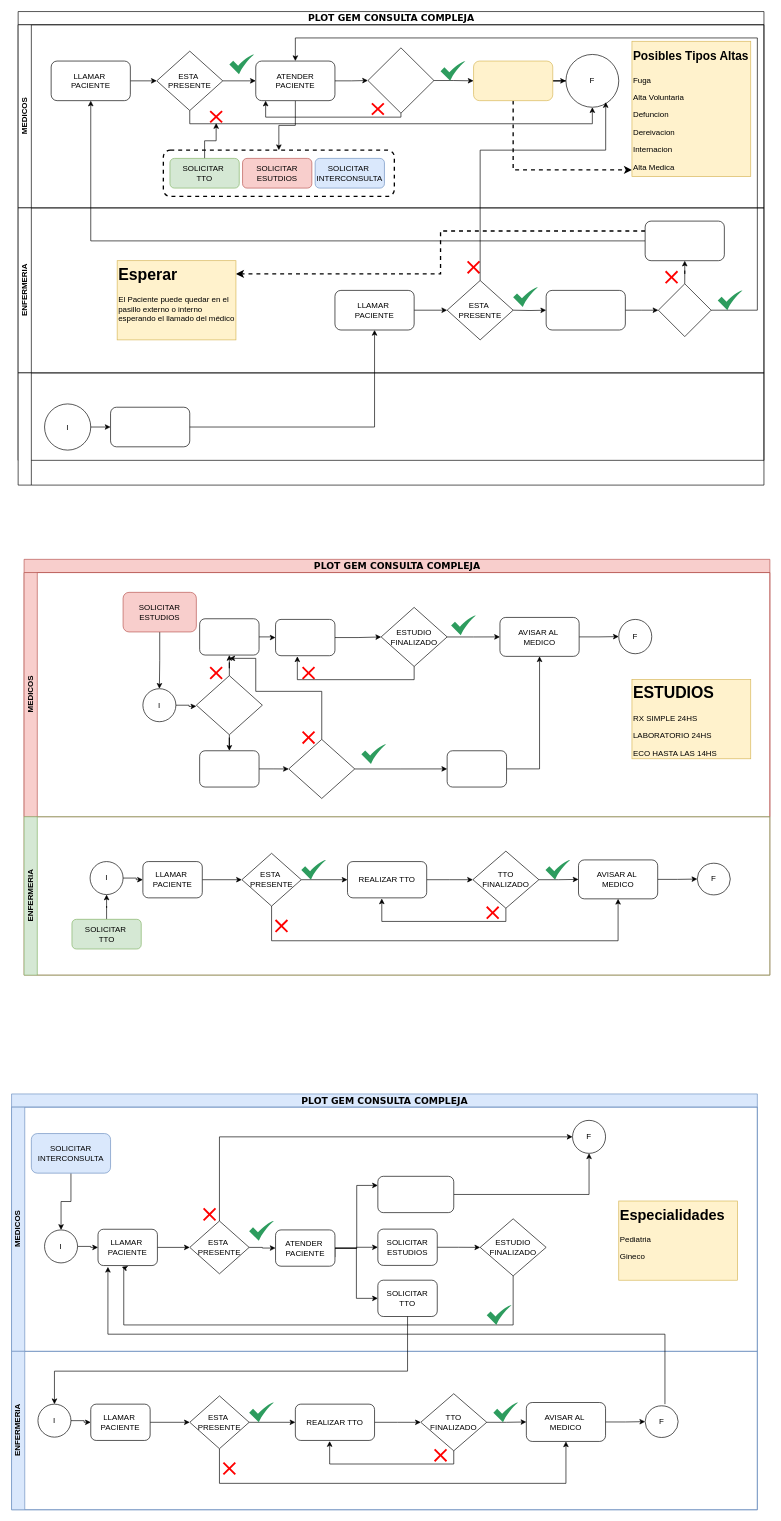
The diagram is 781 pixels wide and 1521 high, and some of its shapes have lost their labels. The box of each missing label's shape, as (x1, y1, x2, y2) in pixels:
CONTROLAR HORARIO: (199, 750, 259, 787)
DERIVAR: (446, 750, 507, 787)
ES ECO: (196, 675, 262, 735)
ESPERAR ATENCION MEDICA: (644, 220, 724, 261)
ESPERAR ESTUDIO: (275, 619, 335, 656)
FINALIZA ATENCIÓN: (367, 47, 434, 113)
FINALIZA INTERCONSULTA: (377, 1176, 454, 1213)
FINALIZAR ATENCIÓN: (473, 60, 553, 101)
GESTION DE PACIENTES: (17, 372, 764, 485)
REALIZAR TRIAJE: (545, 290, 625, 330)
RECEPCIONAR PACIENTES: (110, 407, 190, 447)
Shocroom: (658, 283, 711, 337)
SOLICITAR ESTUDIO: (199, 618, 259, 655)
SON MAS DE LAS 14HS: (288, 739, 355, 798)
